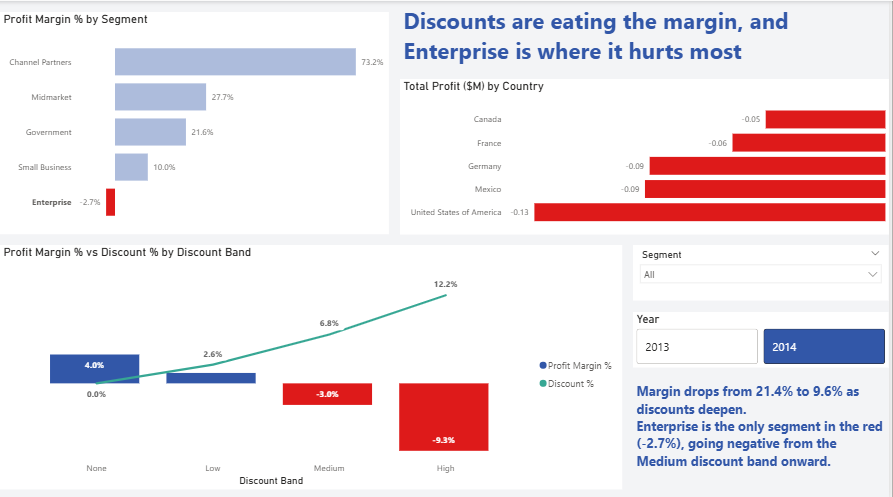

Layout of this report page (visuals, bound fields, positions):
{"tool":"powerbi","page":{"name":"Geo/Segment drill-down","canvas":[1280,720],"ordinal":1},"visuals":[{"type":"clusteredBarChart","title":"Profit Margin % by Segment","fields":{"Category":["Financials.segment"],"Y":["_Measures_.Profit Margin %"]},"box":[16,16,544,320],"z":0},{"type":"clusteredBarChart","title":"Total Profit ($M) by Country","fields":{"Category":["Financials.country"],"Y":["_Measures_.Profit ($M)"]},"box":[576,112,688,224],"z":1000},{"type":"lineClusteredColumnComboChart","title":"Profit Margin % vs Discount % by Discount Band","fields":{"Category":["Financials.discount_band"],"Y":["_Measures_.Profit Margin %"],"Y2":["_Measures_.Discount %"]},"box":[16,352,880,352],"z":2000},{"type":"slicer","fields":{"Values":["Financials.segment"]},"box":[912,352,352,80],"z":3000},{"type":"advancedSlicerVisual","fields":{"Values":["DateTable.Year"]},"box":[912,448,352,80],"z":4000},{"type":"textbox","box":[912,544,352,160],"z":5000},{"type":"textbox","box":[576,0,576,96],"z":6000}]}

Visuals, with their boxes in screenshot pixels (x1, y1, x2, y2), scaled from the page's 1280x720 canvas onto the 893x497 screenshot:
"Profit Margin % by Segment" clusteredBarChart: (left=11, top=11, right=391, bottom=232)
"Total Profit ($M) by Country" clusteredBarChart: (left=402, top=77, right=882, bottom=232)
"Profit Margin % vs Discount % by Discount Band" lineClusteredColumnComboChart: (left=11, top=243, right=625, bottom=486)
slicer - Financials.segment: (left=636, top=243, right=882, bottom=298)
advancedSlicerVisual - DateTable.Year: (left=636, top=309, right=882, bottom=364)
textbox: (left=636, top=376, right=882, bottom=486)
textbox: (left=402, top=0, right=804, bottom=66)
